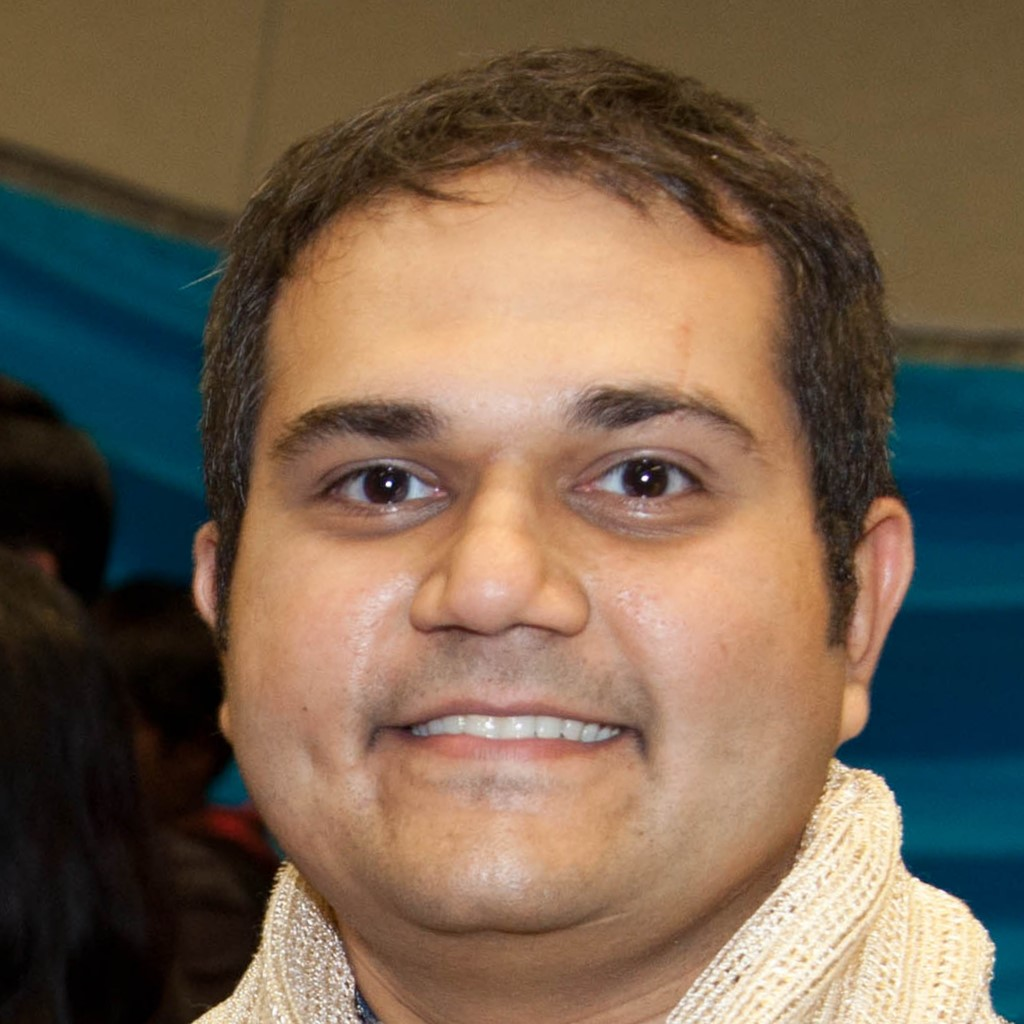sin_mascara: (210, 129, 889, 956)
